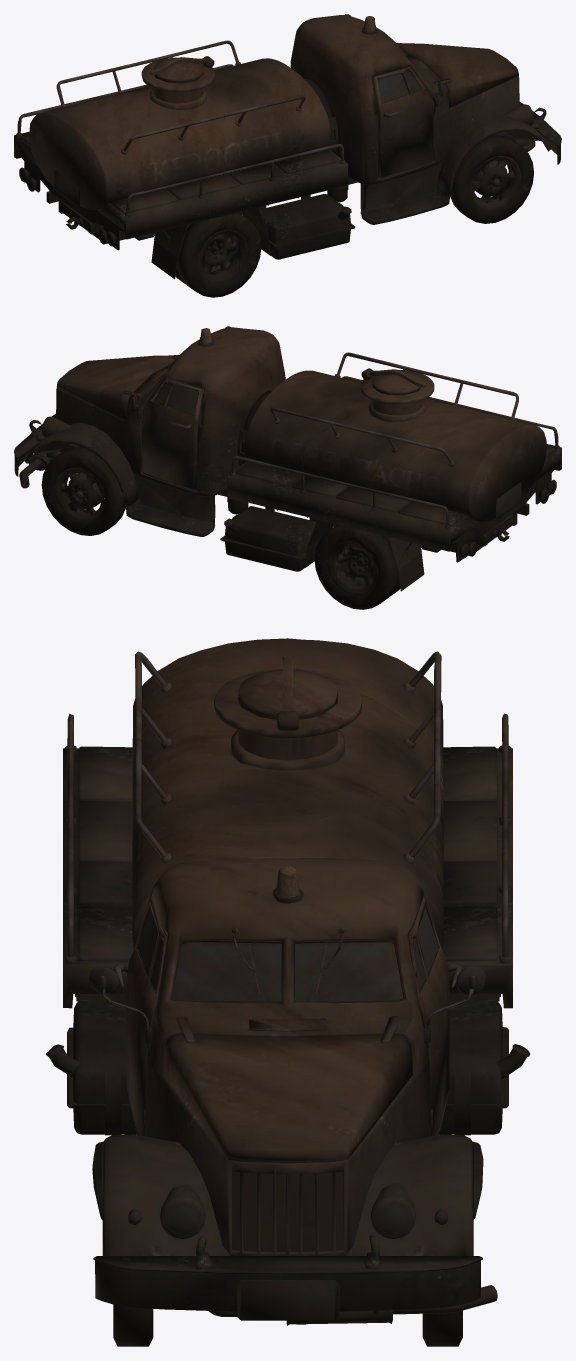
The model's file is fueltruck.glb.
3 renders of one model, top to bottom at view 1: azimuth 30°, elevation 25°; view 2: azimuth 150°, elevation 25°; view 3: azimuth 270°, elevation 25°, orthographic. The views are drawn at different scales.
Visible parts, largest first — view 1: fueltruck; view 2: fueltruck; view 3: fueltruck.
Boxes of the visible parts, box(x1,y1,x2,y2) form: fueltruck: box(14, 14, 561, 297); fueltruck: box(14, 326, 561, 609); fueltruck: box(45, 638, 530, 1346).
Bounding box in the file's own units: 5.8 × 2.4 × 2.64.
2 materials, 2 textured.
